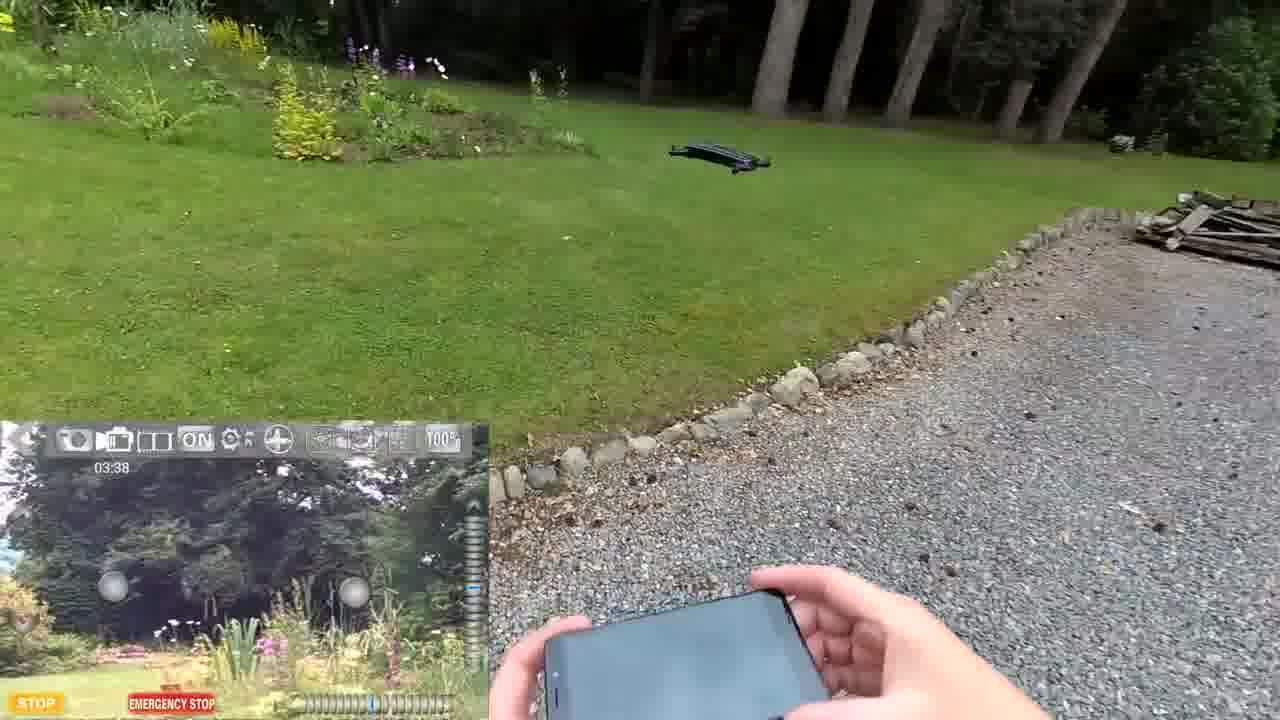drone: (656, 128, 798, 182)
